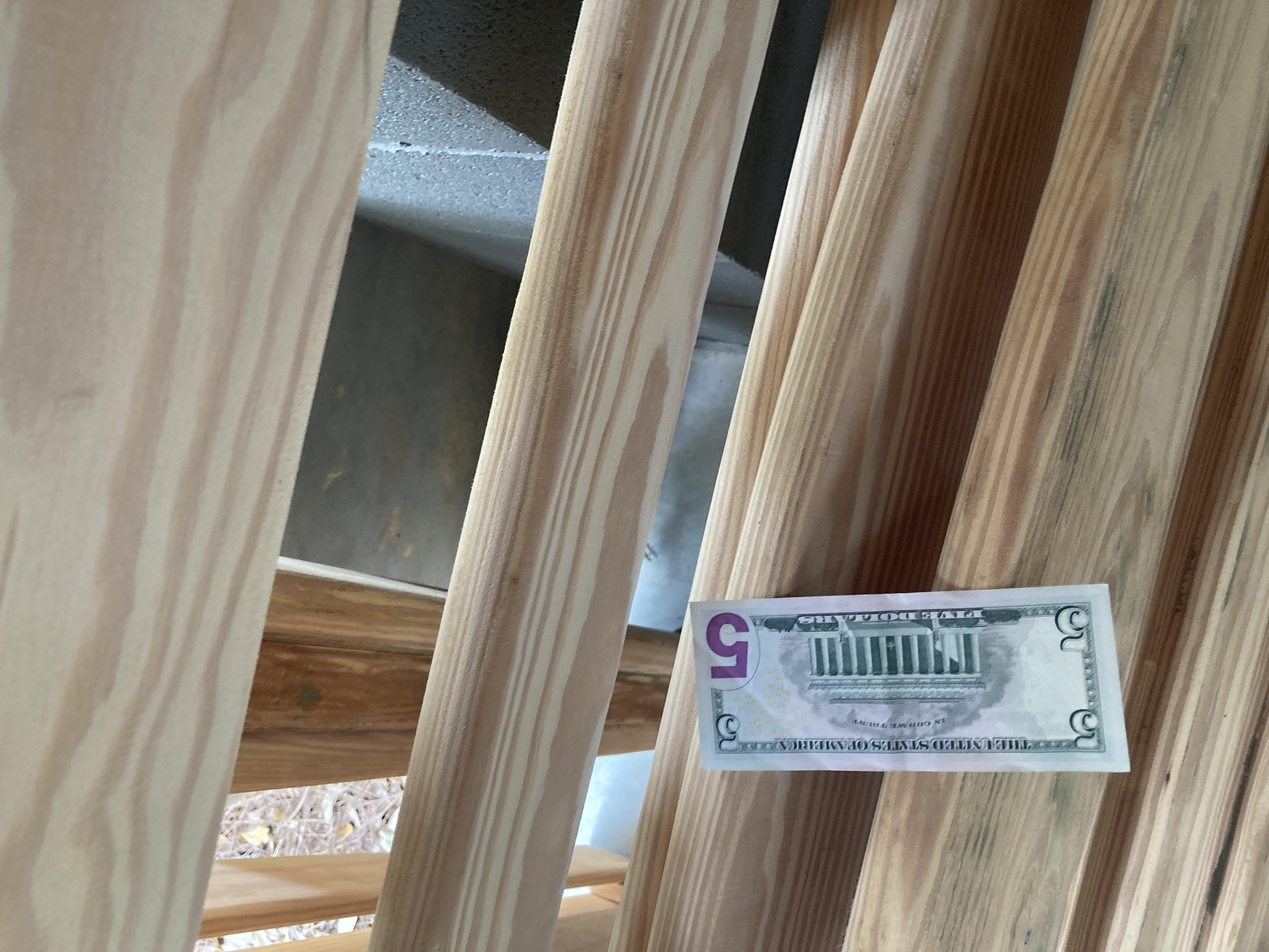five-back: (239, 517, 494, 849)
